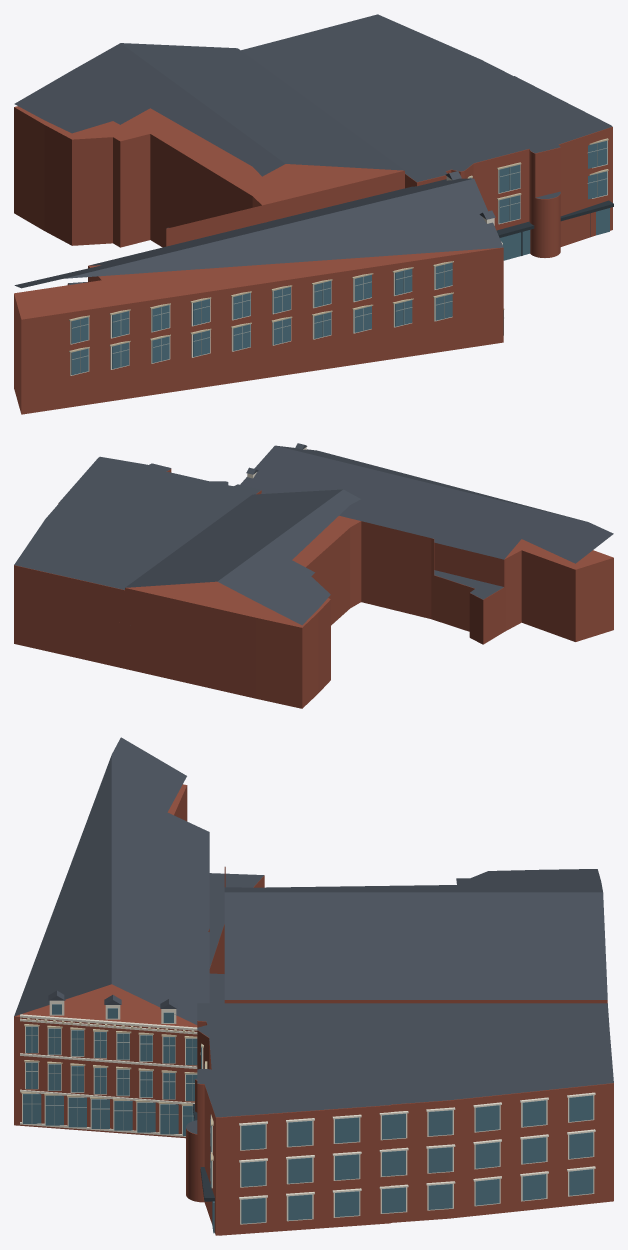
Rendered from brakke-grond.glb.
3 renders of one model, top to bottom at view 1: azimuth 30°, elevation 25°; view 2: azimuth 150°, elevation 25°; view 3: azimuth 270°, elevation 25°, orthographic. The views are drawn at different scales.
Visible parts, largest first — view 1: brakke-grond; view 2: brakke-grond; view 3: brakke-grond.
Boxes of the visible parts, x1,y1,x2,y2 form: brakke-grond: (14,14,613,414); brakke-grond: (14,443,613,708); brakke-grond: (14,737,613,1235).
Size of the model in its own units: 82.31 by 17.64 by 58.97.
